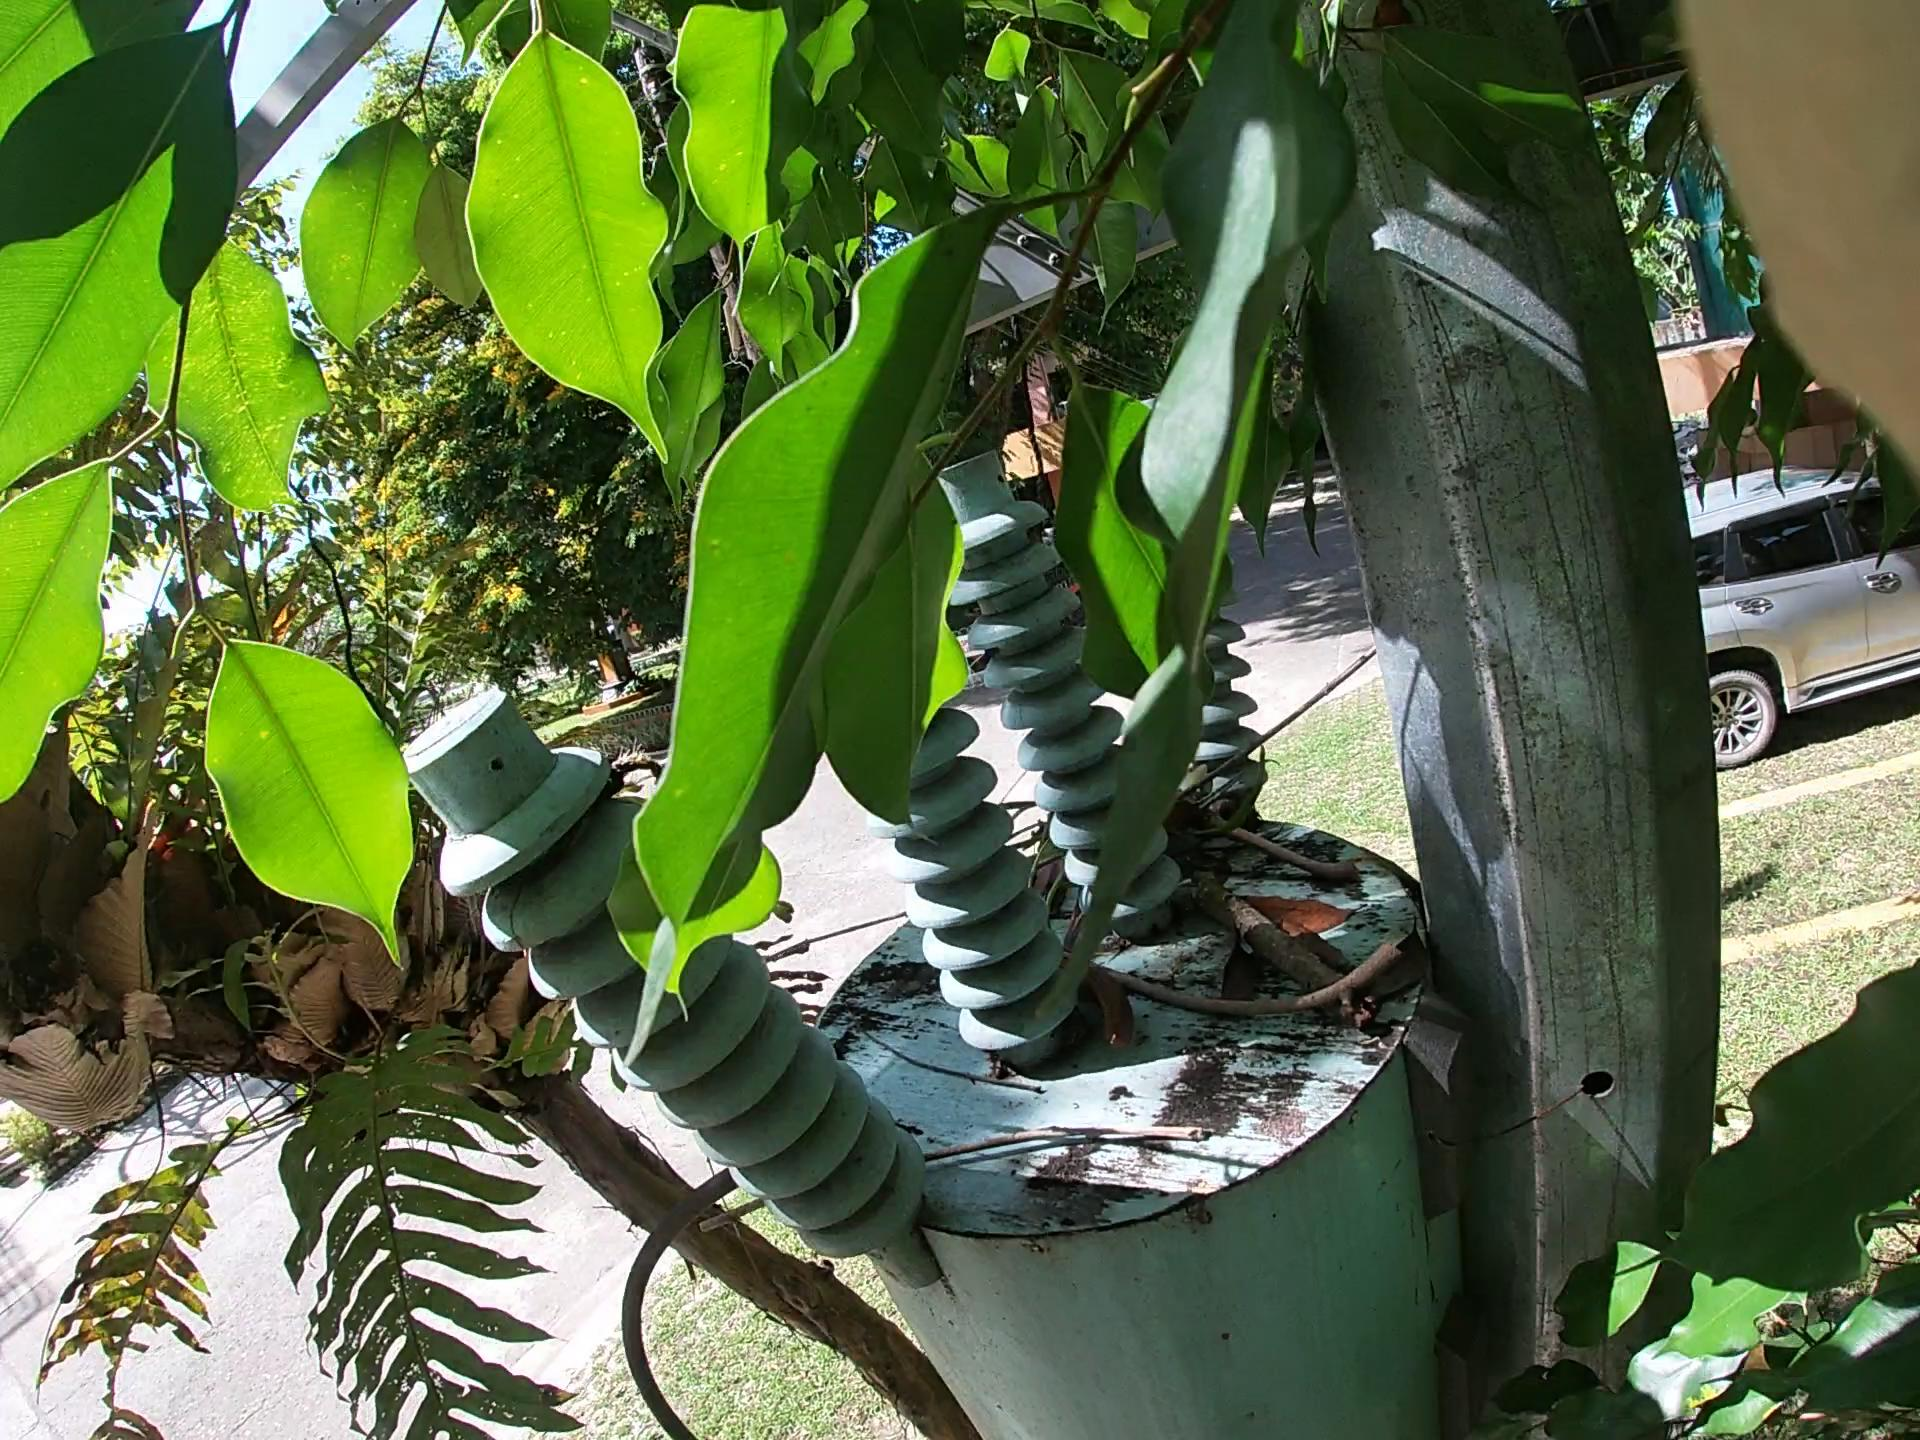leaf: (1185, 853, 1308, 991)
tree branch: (877, 611, 1364, 1001), (735, 1103, 1293, 1274), (1020, 926, 1352, 1047), (1185, 824, 1330, 1050), (1138, 768, 1336, 900)
